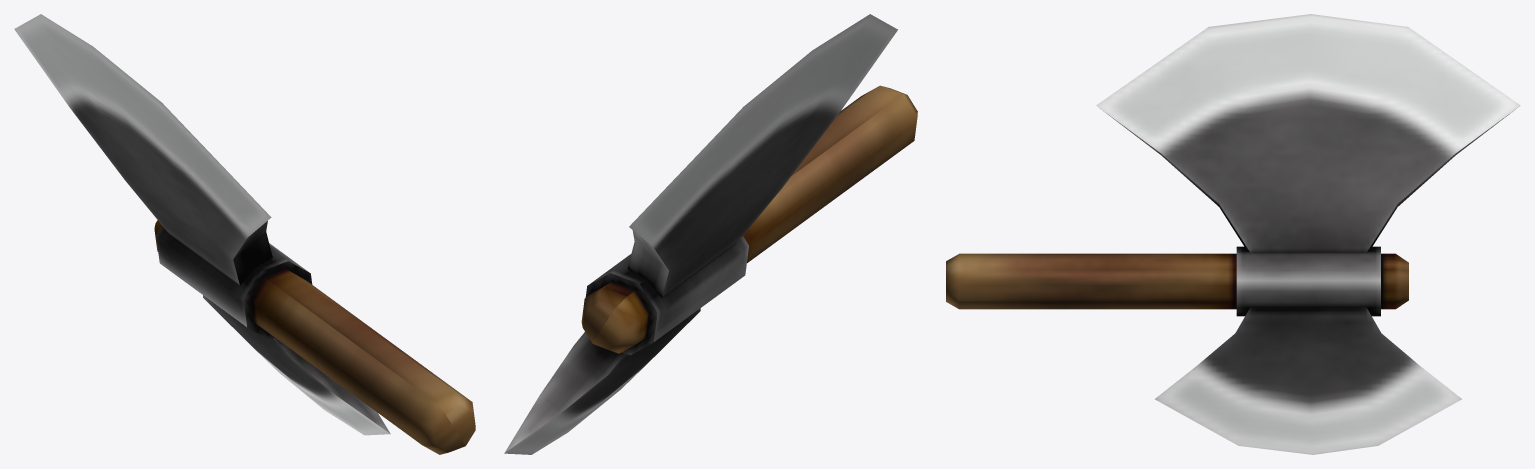
File: axe002.fbx
3 views of the same model, side by side, from view 1: azimuth 30°, elevation 25°; view 2: azimuth 150°, elevation 25°; view 3: azimuth 270°, elevation 25° (orthographic). The views are drawn at different scales.
Parts seen in each view (by area): view 1: axe002; view 2: axe002; view 3: axe002.
Boxes of the visible parts, left/top/right/bottom form: axe002: left=14, top=14, right=475, bottom=454; axe002: left=504, top=14, right=917, bottom=454; axe002: left=946, top=14, right=1520, bottom=454.
Bounding box in the file's own units: 0.1653 × 0.2863 × 0.4293.
